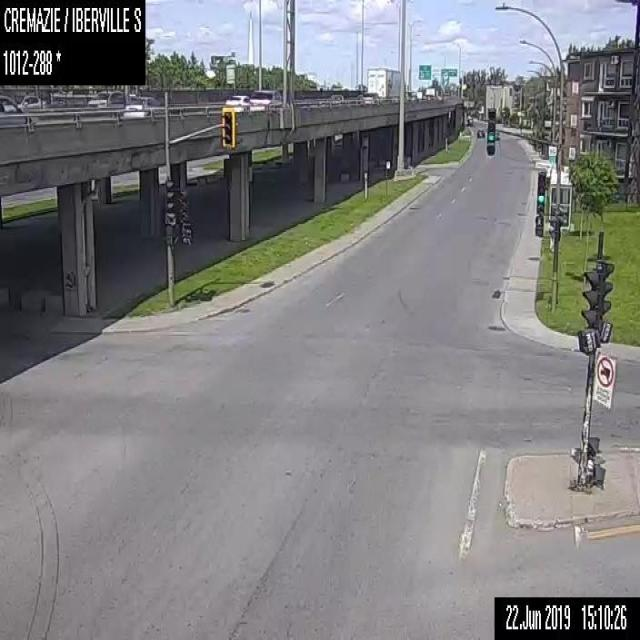vehicle: (366, 67, 408, 104), (123, 96, 171, 119), (0, 94, 31, 125), (86, 88, 124, 108), (250, 88, 282, 111), (224, 94, 250, 112), (17, 94, 45, 108), (328, 92, 347, 106), (362, 92, 380, 105), (476, 128, 485, 136), (494, 131, 500, 139)
